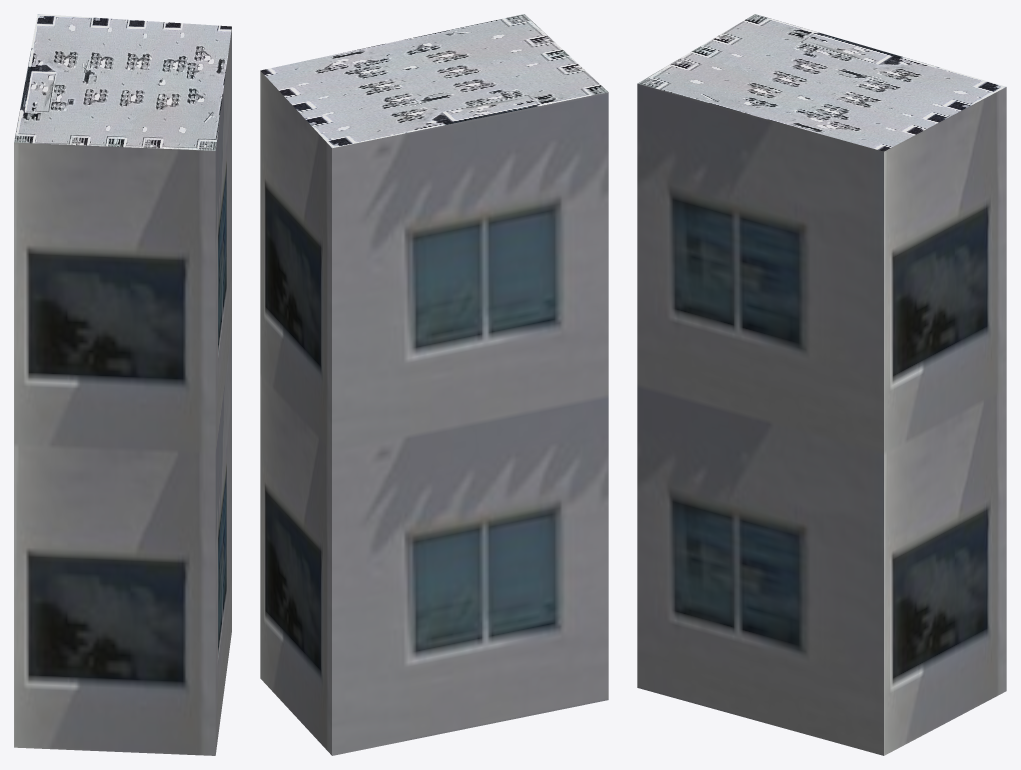
Rendered from ResTex__2441.fbx.
The picture shows the model from 3 angles, left to right: view 1: azimuth 30°, elevation 25°; view 2: azimuth 150°, elevation 25°; view 3: azimuth 270°, elevation 25°; orthographic projection.
Parts seen in each view (by area): view 1: CityEngineMaterial_10_m, CityEngineMaterial_8_m; view 2: CityEngineMaterial_10_m, CityEngineMaterial_8_m; view 3: CityEngineMaterial_10_m, CityEngineMaterial_8_m.
Boxes of the visible parts, <box> form: CityEngineMaterial_10_m: <box>14,28,231,755</box>; CityEngineMaterial_8_m: <box>14,14,231,150</box>; CityEngineMaterial_10_m: <box>260,71,608,755</box>; CityEngineMaterial_8_m: <box>260,14,608,148</box>; CityEngineMaterial_10_m: <box>637,83,1006,755</box>; CityEngineMaterial_8_m: <box>637,14,1006,151</box>.
Bounding box in the file's own units: 2.93 × 6 × 3.32.
2 materials, 2 textured.
